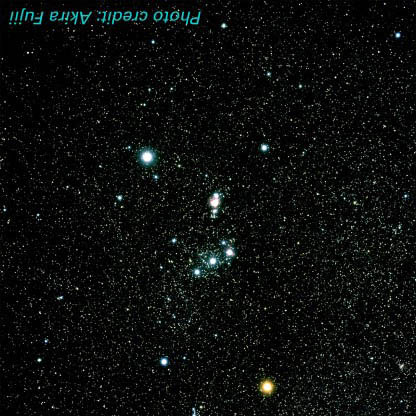Orion: (252, 366, 282, 403), (131, 141, 161, 175), (150, 349, 180, 373), (252, 132, 275, 158), (188, 262, 203, 287), (224, 243, 241, 264), (209, 247, 222, 272)
